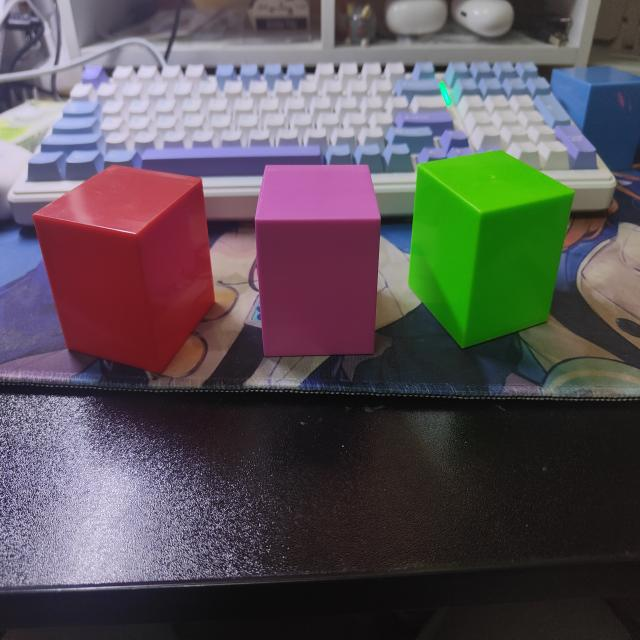green: (407, 151, 575, 351)
pink: (254, 165, 382, 360)
red: (31, 166, 216, 379)
